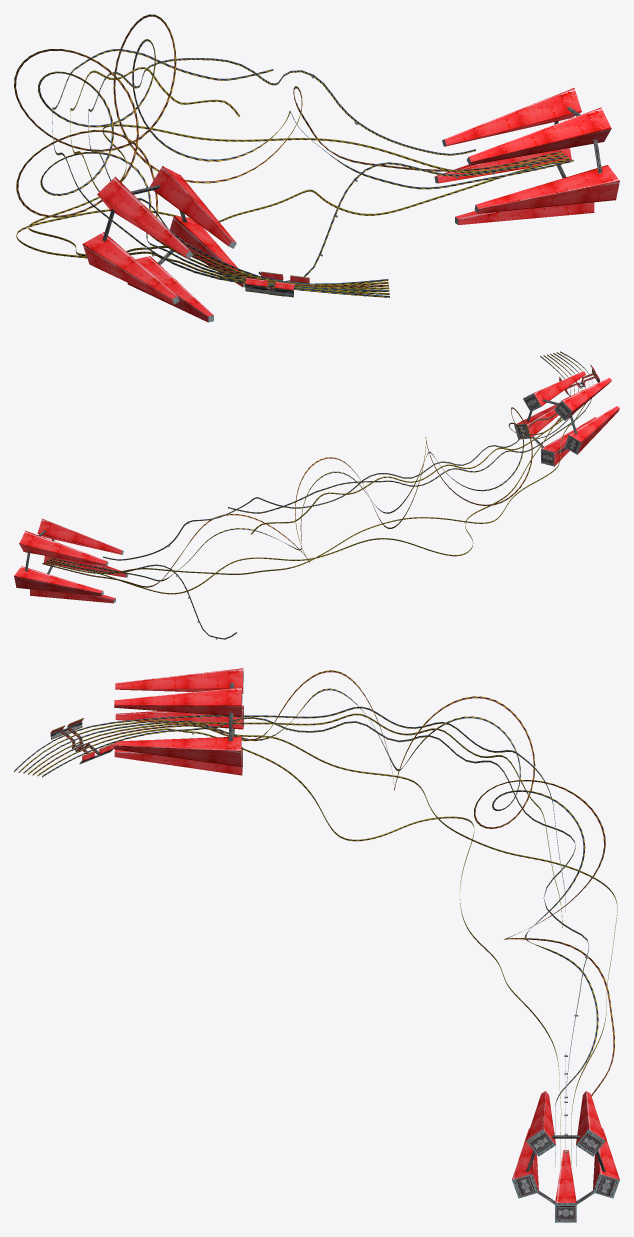
Rendered from railcanyon12.obj.
3 renders of one model, top to bottom at view 1: azimuth 30°, elevation 25°; view 2: azimuth 150°, elevation 25°; view 3: azimuth 270°, elevation 25°, orthographic. The views are drawn at different scales.
Visible parts, largest first — view 1: Object_2; view 2: Object_2; view 3: Object_2.
Part boxes in pixels (left/top/right/bottom): Object_2: left=14, top=14, right=619, bottom=322; Object_2: left=14, top=351, right=619, bottom=639; Object_2: left=14, top=668, right=619, bottom=1222.
Bounding box in the file's own units: 3823 × 1808 × 3419.
14 materials, 13 textured.
